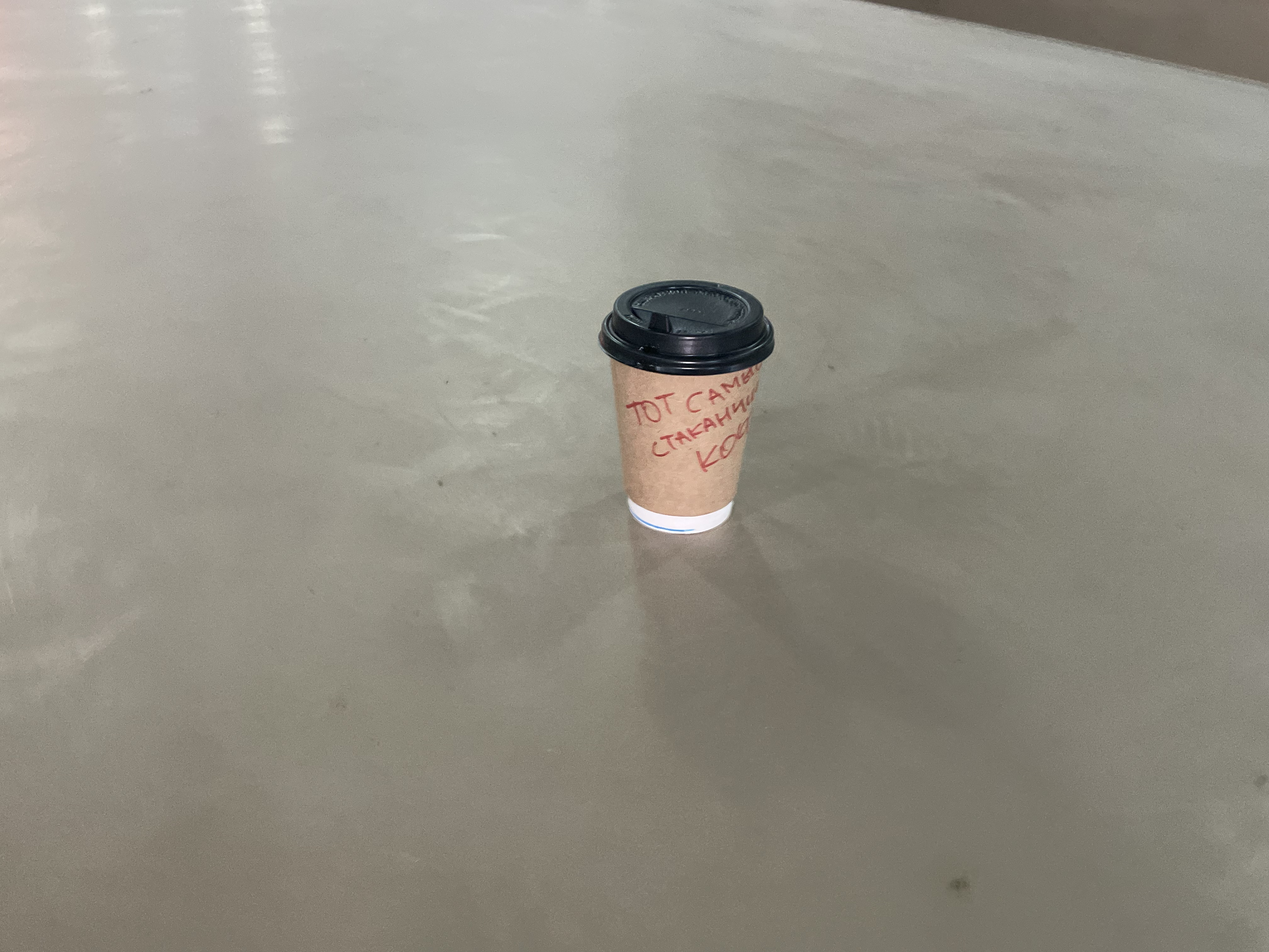cup: (597, 277, 773, 535)
